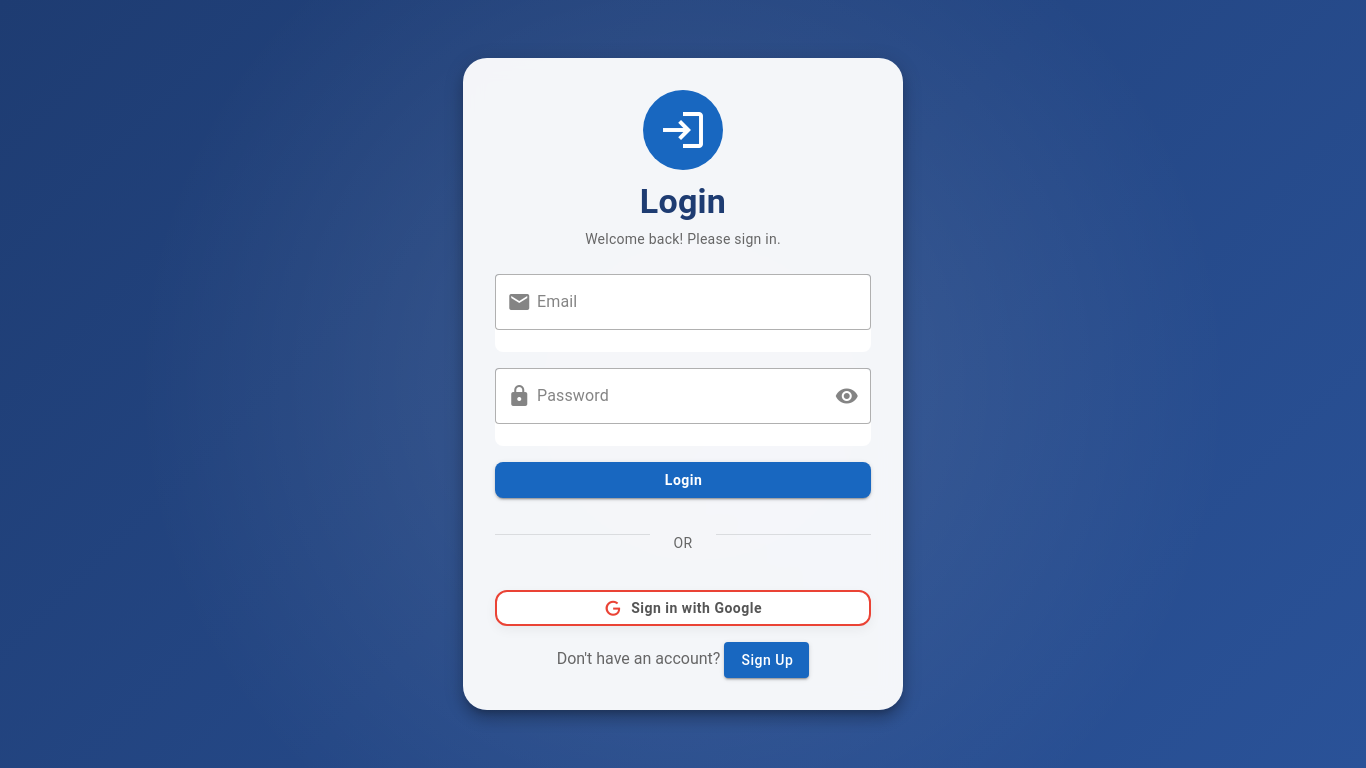
Scenario: Login.vue › displays success message on successful Google Sign-In
The image size is (1366, 768).
Click the button with class "google-btn" at (683, 608), box [495, 590, 871, 626]
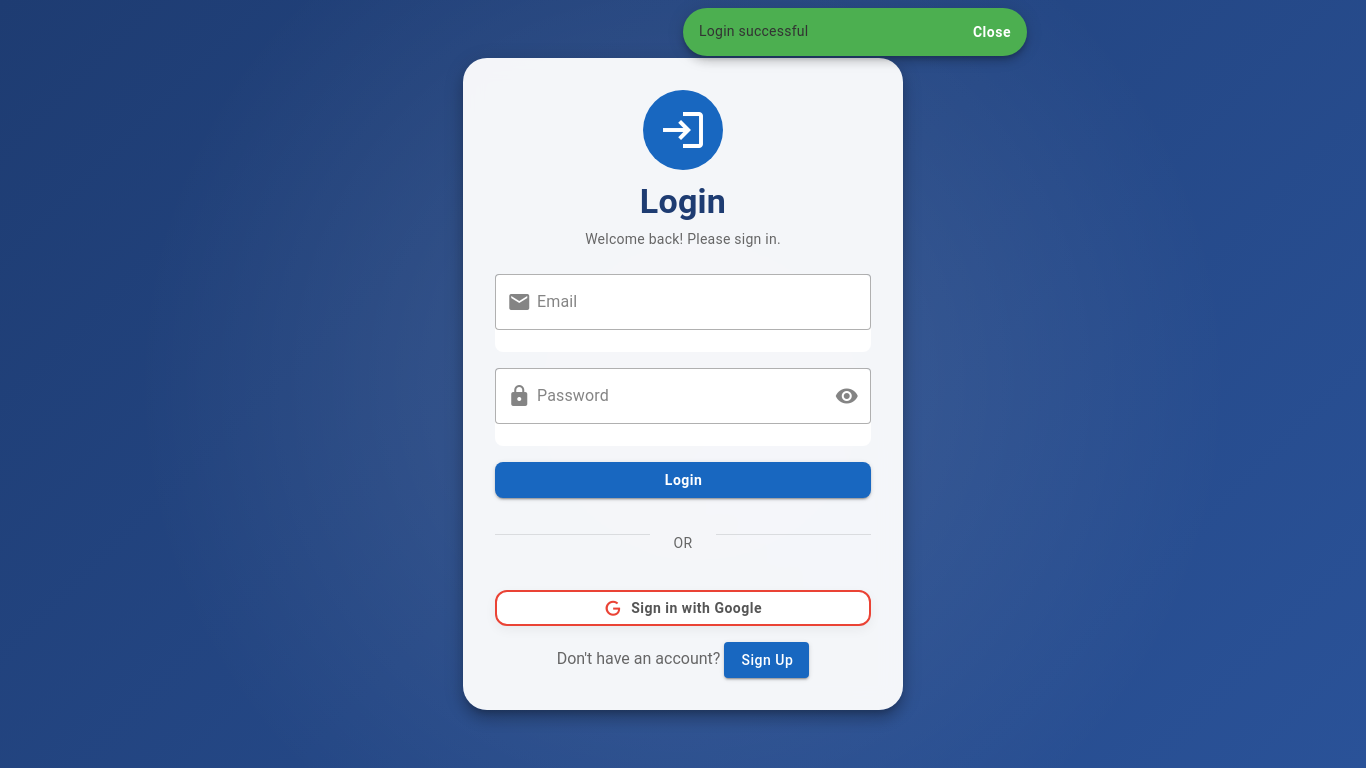
Now the message "Login successful" is shown, box [699, 23, 808, 39]
